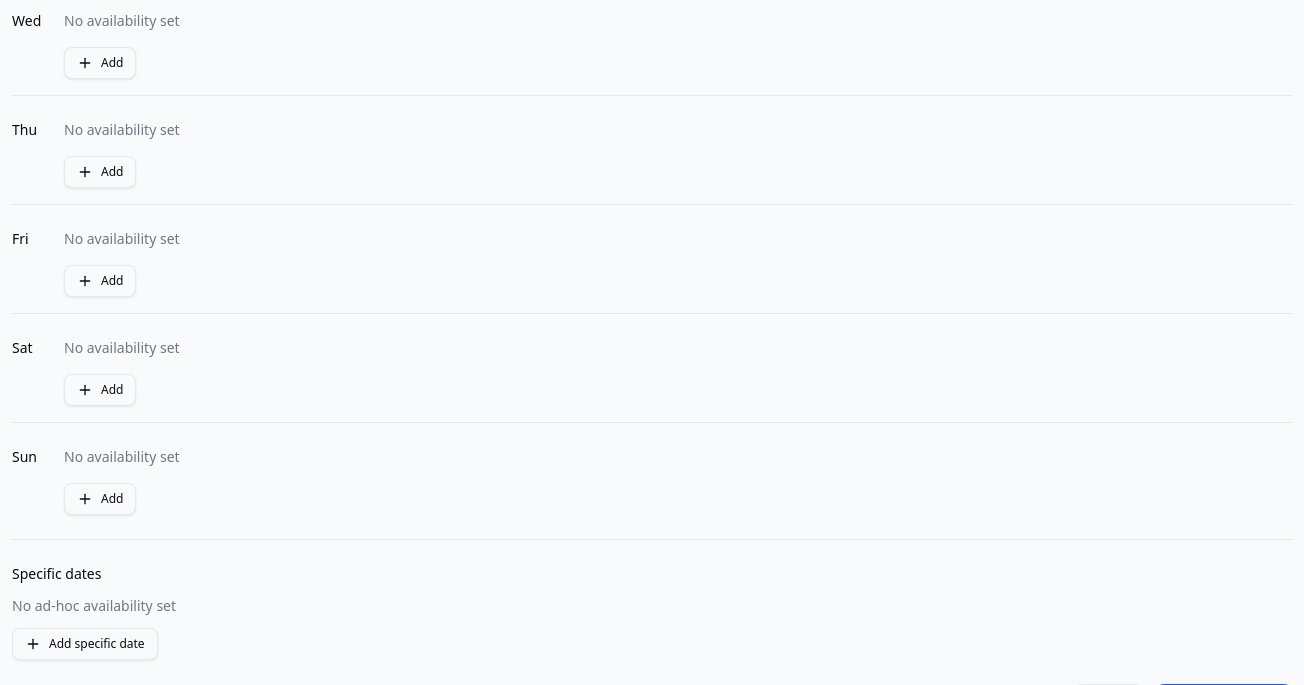
Test: AvailabilityEditor › ad-hoc window › removes an ad-hoc window when Remove button is clicked
(page scrolled)
Click the button "Add specific date". click: (85, 644)
box: [12,628,158,660]
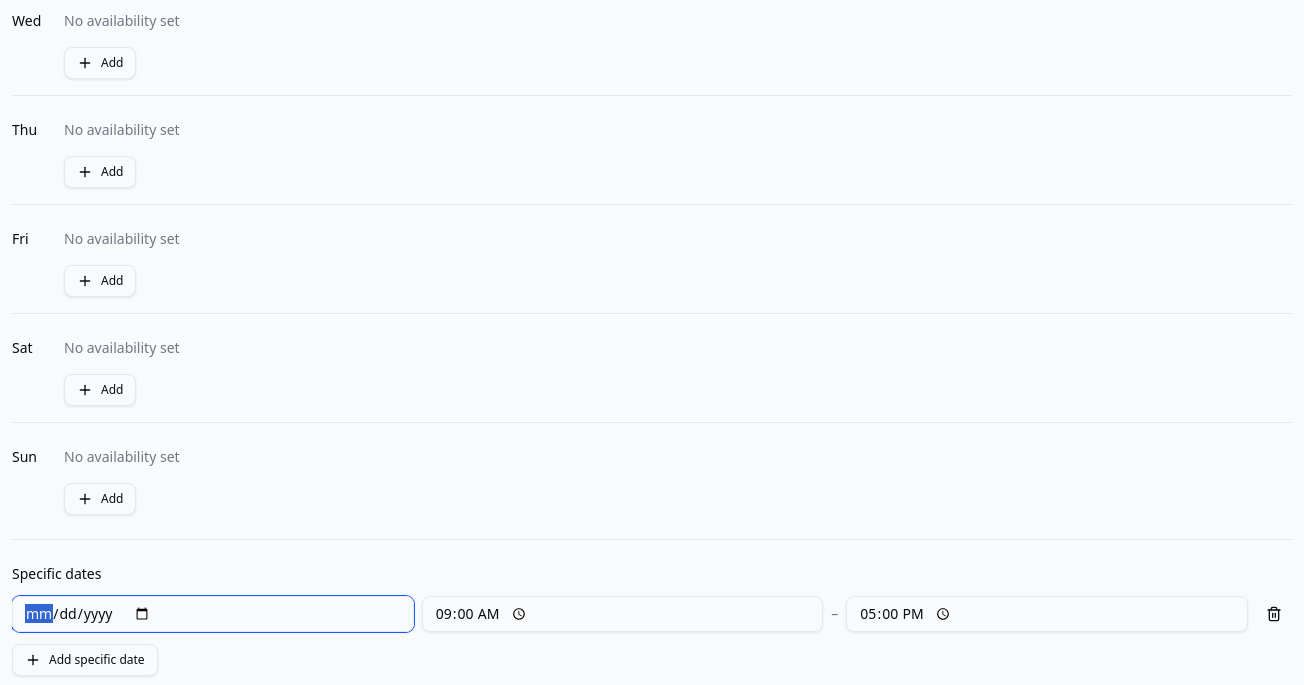
Expected: the date field named "ad-hoc window 1 date" is shown, [12,596,414,632]
Click the button named "remove ad-hoc window 1". click: (1274, 614)
box: [1256,596,1292,632]
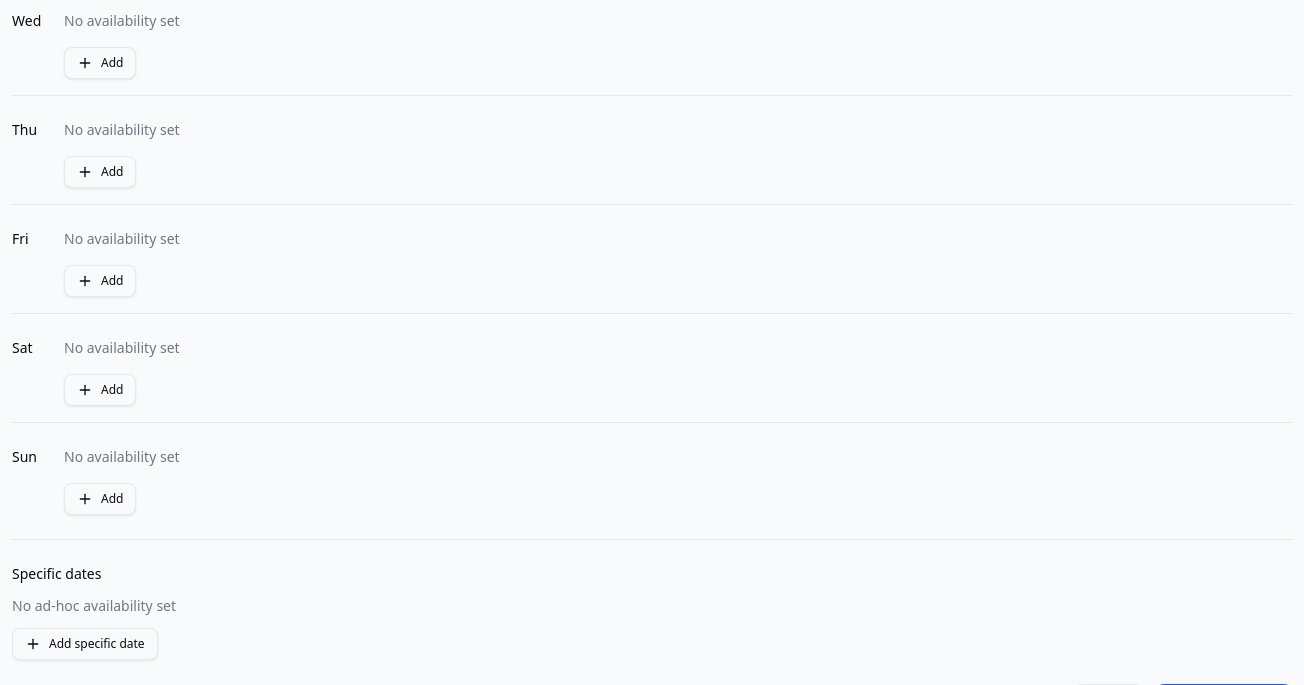
Expected: the date field labelled "ad-hoc window 1 date" is gone
